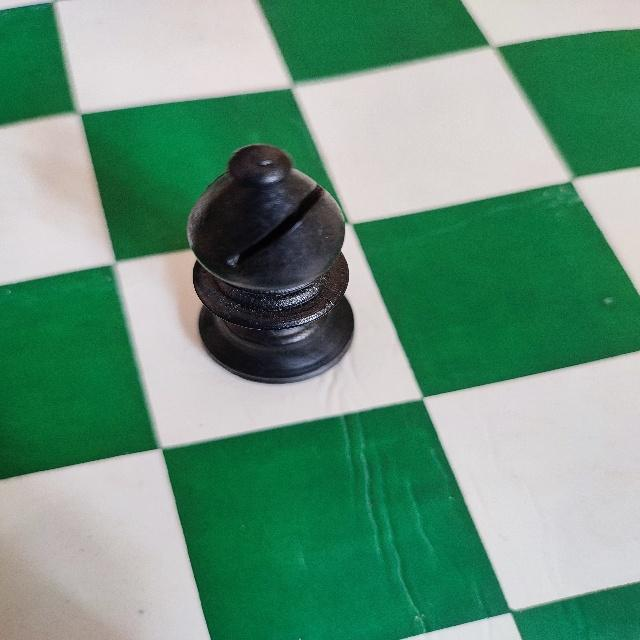Bishop: (182, 139, 358, 388)
